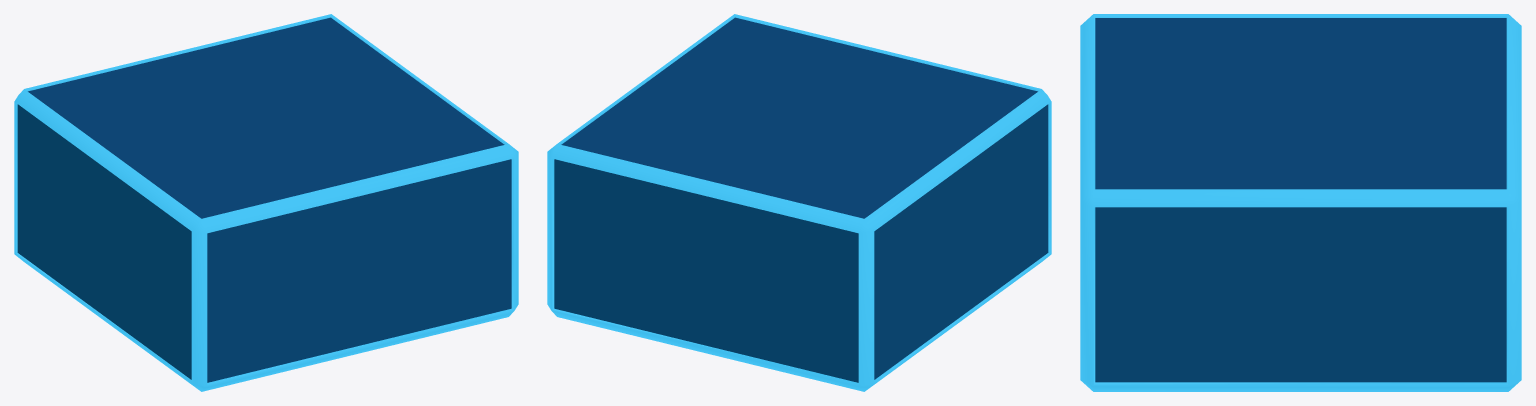
Rendered from block-neon-large.glb.
The picture shows the model from 3 angles, left to right: view 1: azimuth 30°, elevation 25°; view 2: azimuth 150°, elevation 25°; view 3: azimuth 270°, elevation 25°; orthographic projection. The views are drawn at different scales.
Visible parts, largest first — view 1: block-neon-large; view 2: block-neon-large; view 3: block-neon-large.
Boxes of the visible parts, x1,y1,x2,y2 form: block-neon-large: (14, 14, 518, 391); block-neon-large: (547, 14, 1051, 391); block-neon-large: (1080, 14, 1521, 391).
Bounding box in the file's own units: 2.03 × 1.03 × 2.03.
